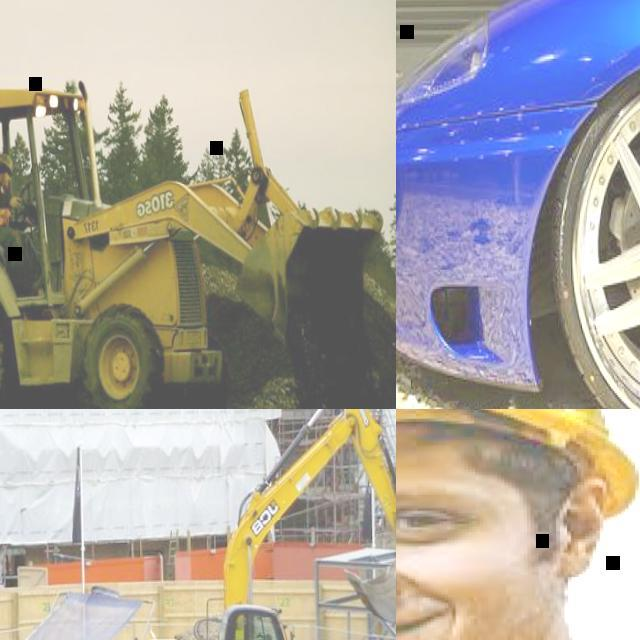helmet: (396, 409, 639, 528), (0, 150, 15, 169)
vest: (0, 169, 12, 224)
